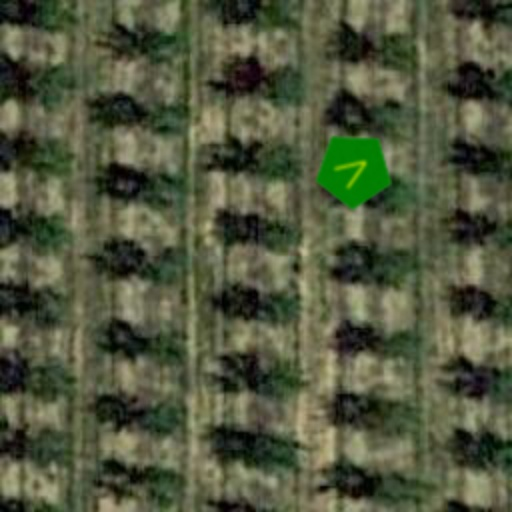pentagon: (298, 114, 410, 226)
